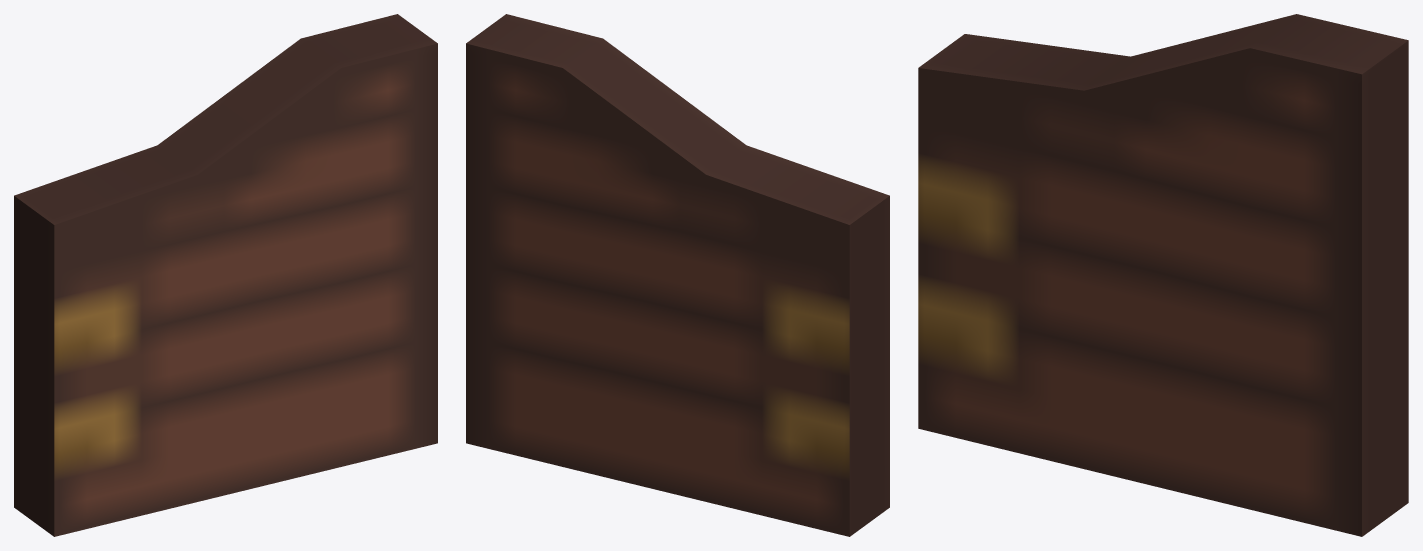
Rendered from door_western_v1_r_001.fbx.
3 views of the same model, side by side, from view 1: azimuth 30°, elevation 25°; view 2: azimuth 150°, elevation 25°; view 3: azimuth 330°, elevation 25° (orthographic). The views are drawn at different scales.
Parts seen in each view (by area): view 1: door_western_v1_r_001; view 2: door_western_v1_r_001; view 3: door_western_v1_r_001.
Part boxes in pixels (x1=…): door_western_v1_r_001: x1=14, y1=14, x2=437, y2=536; door_western_v1_r_001: x1=466, y1=14, x2=889, y2=536; door_western_v1_r_001: x1=918, y1=14, x2=1408, y2=536.
Size of the model in its own units: 91.22 by 90.84 by 16.59.
